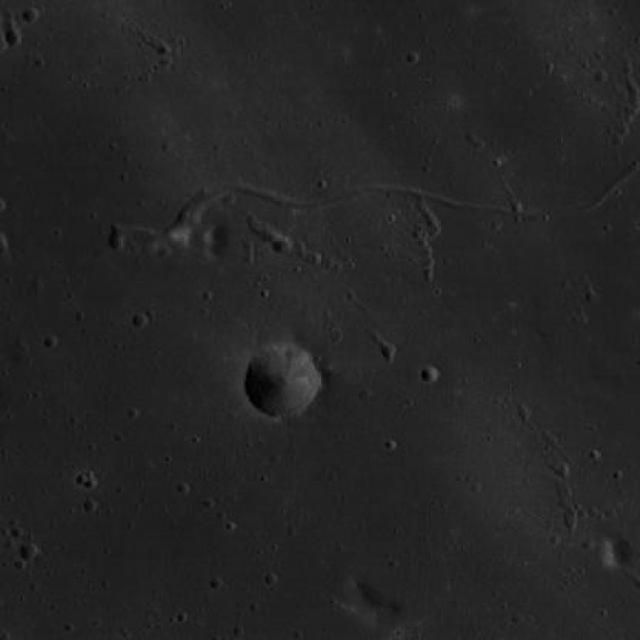crater: (246, 346, 322, 419), (276, 238, 296, 256), (4, 28, 23, 46), (20, 542, 38, 561), (424, 370, 441, 388), (110, 236, 127, 253), (554, 484, 572, 499)
